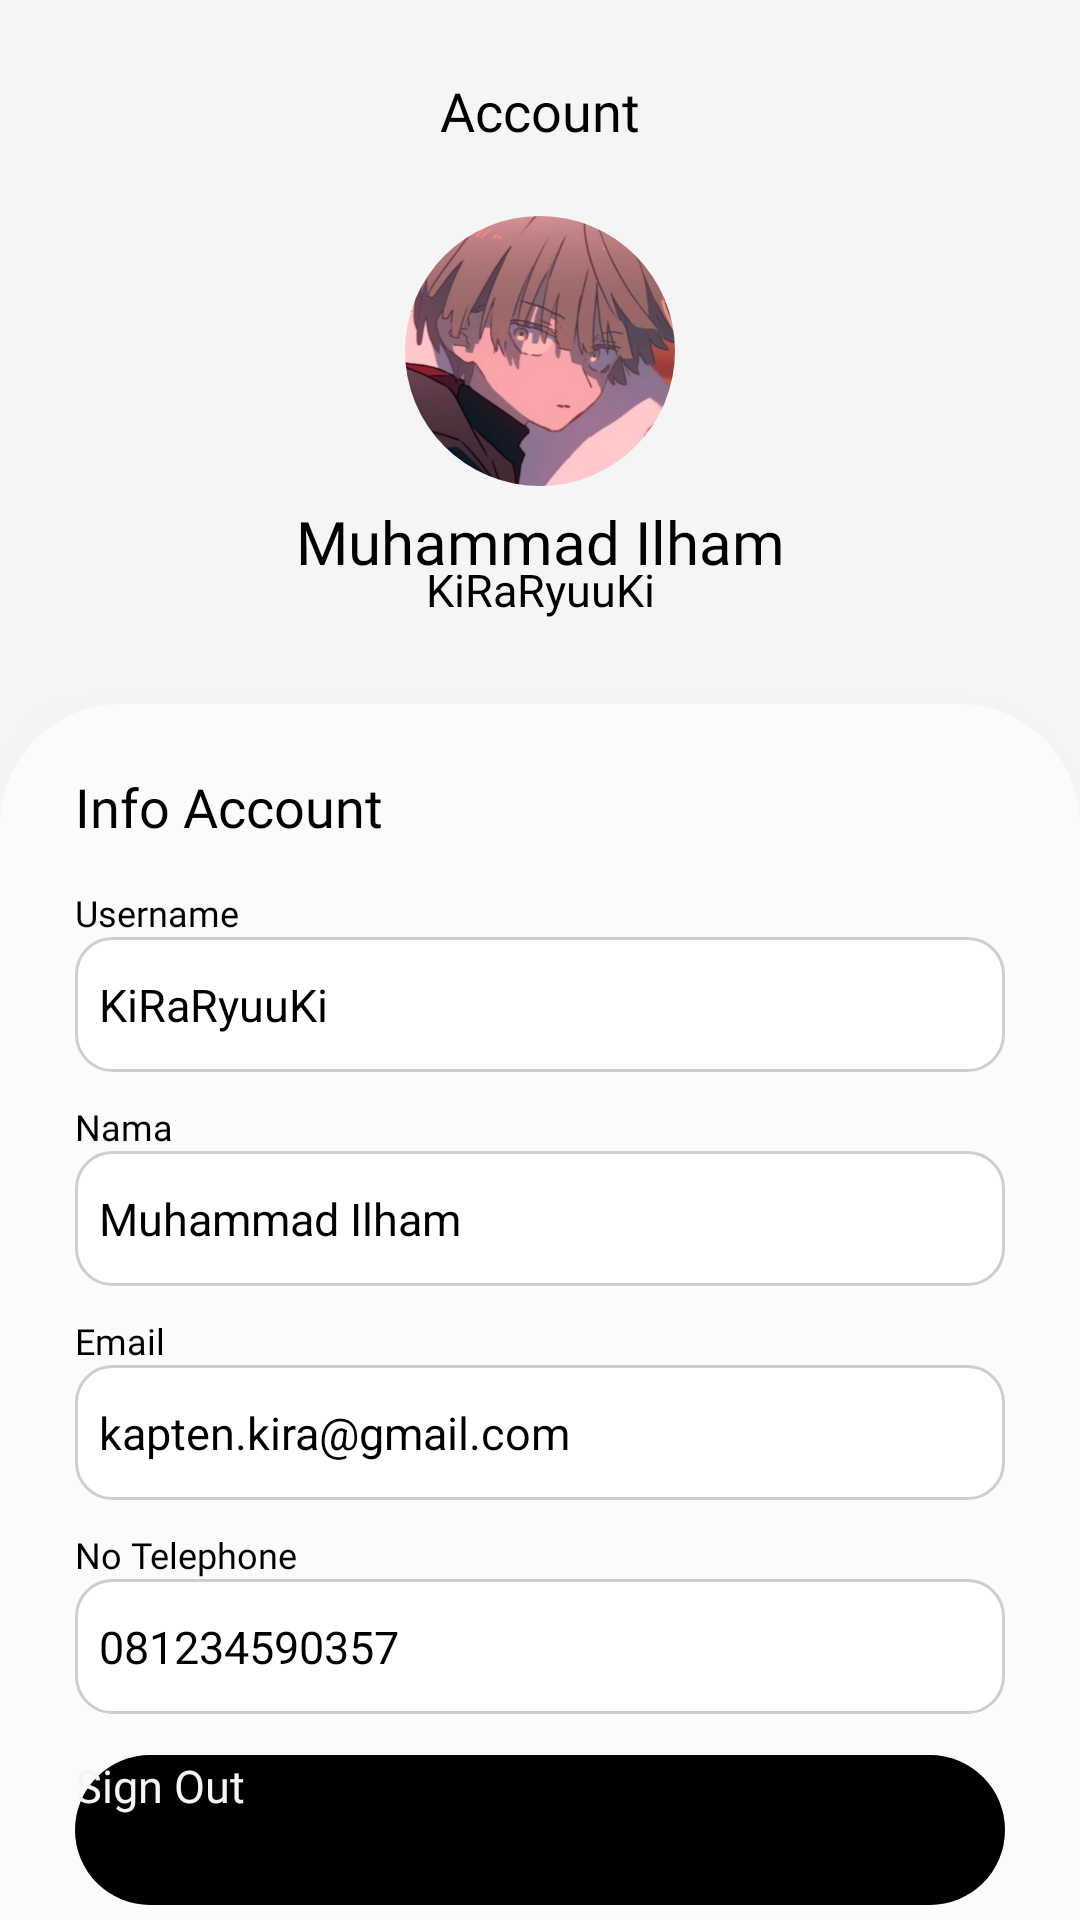

Where to tap for icons on this 1080w x 1920h app screen, as (x,y):
profile: (540,351)
